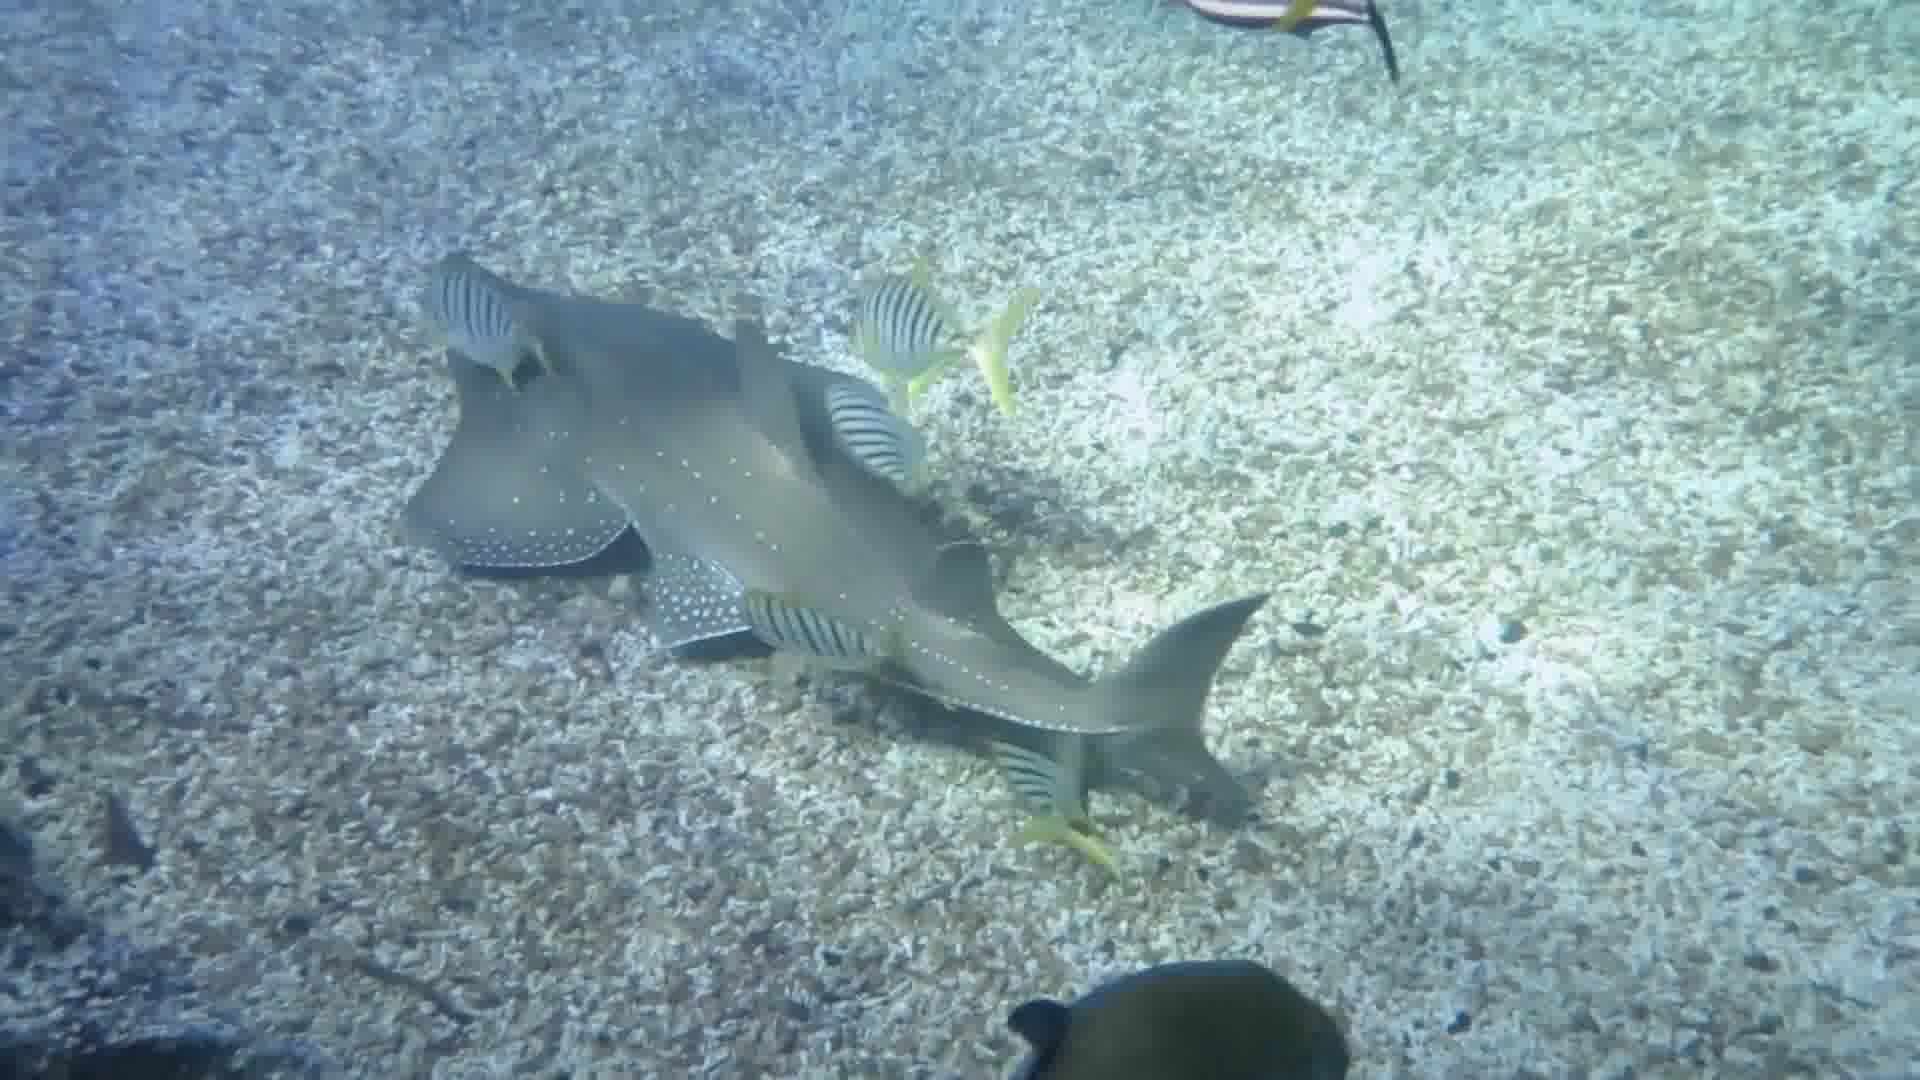Rhychobatus djiddensis: (368, 224, 1400, 787)
